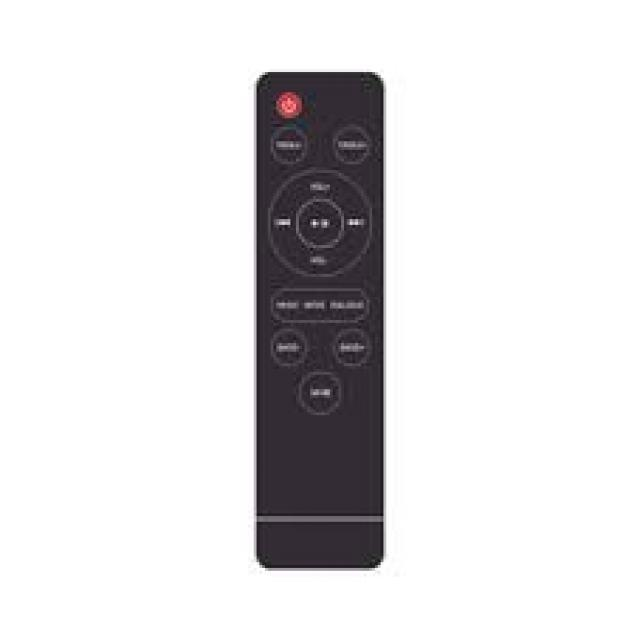remote: (254, 70, 389, 568)
